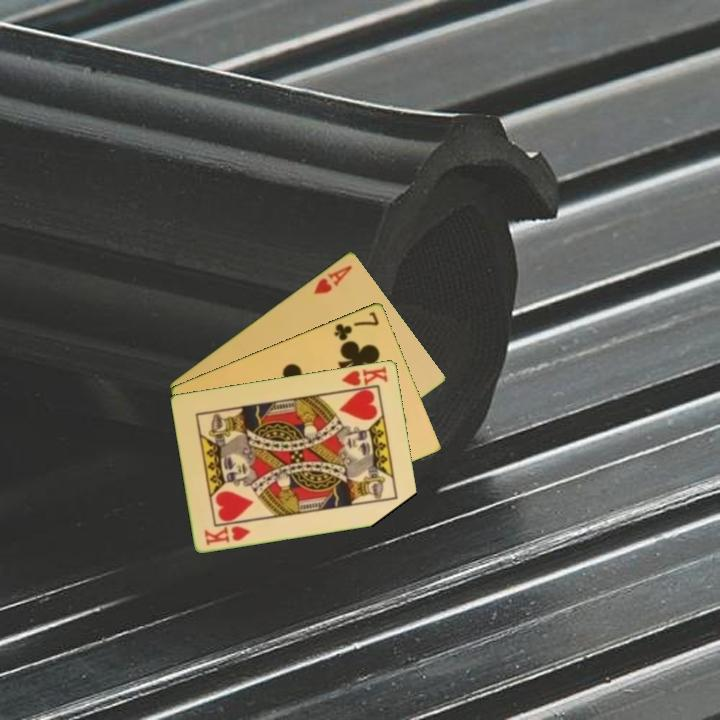7c: (330, 308, 382, 343)
Ah: (310, 261, 355, 297)
Kh: (337, 363, 391, 394), (201, 522, 253, 548)
